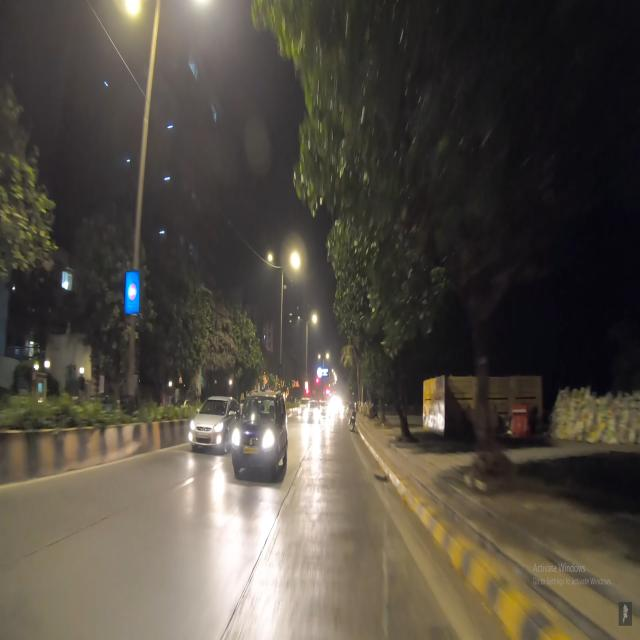headlights: (230, 422, 278, 456), (185, 414, 226, 449)
